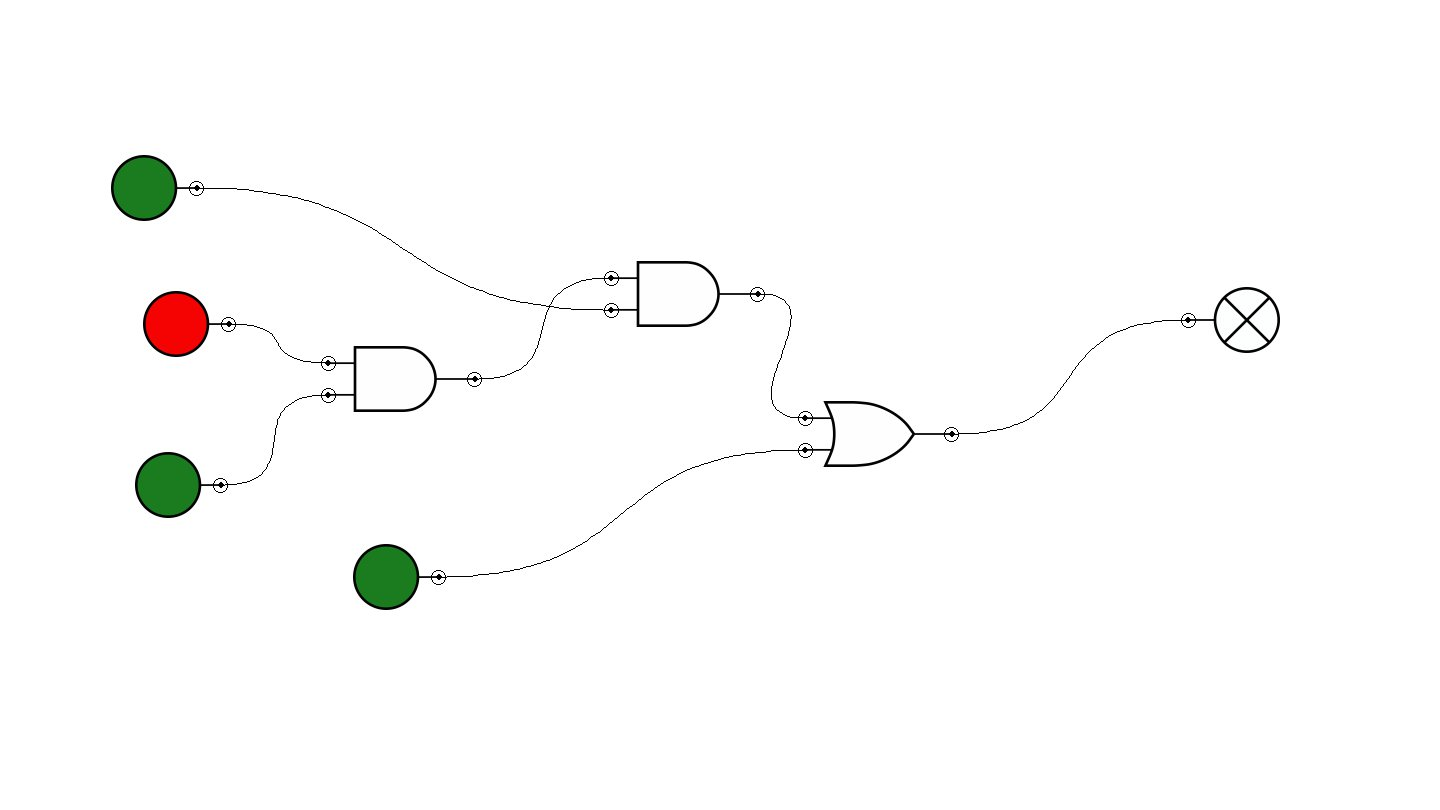and: (321, 346, 482, 412), (604, 261, 765, 327)
bulb: (1181, 287, 1280, 353)
or: (798, 401, 959, 467)
switch_False: (143, 291, 236, 357)
switch_True: (111, 155, 204, 221), (135, 452, 228, 518), (353, 544, 446, 610)
